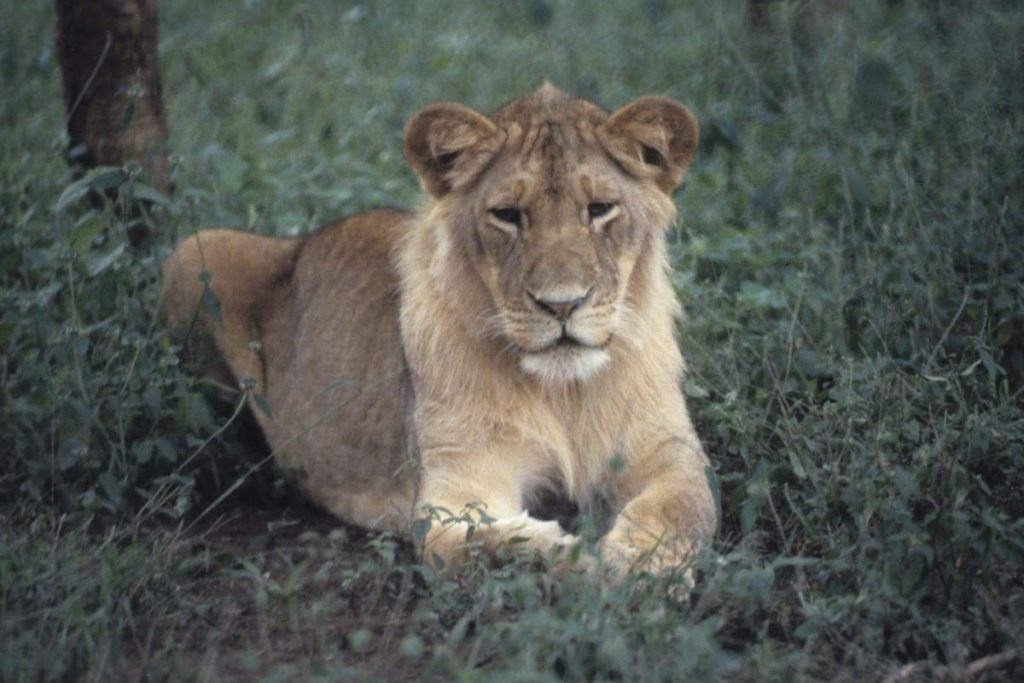lion: (156, 72, 728, 593)
